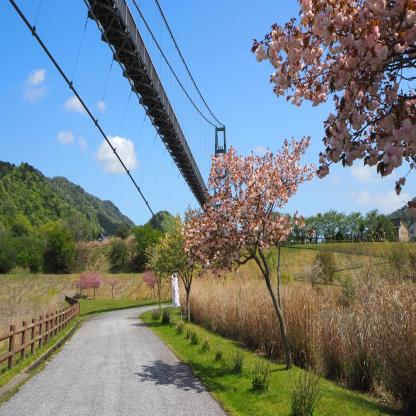YaeSakura: (252, 0, 416, 193), (186, 137, 314, 269), (141, 268, 158, 291), (86, 268, 102, 292), (75, 270, 90, 292), (126, 227, 137, 255), (106, 275, 120, 293)
